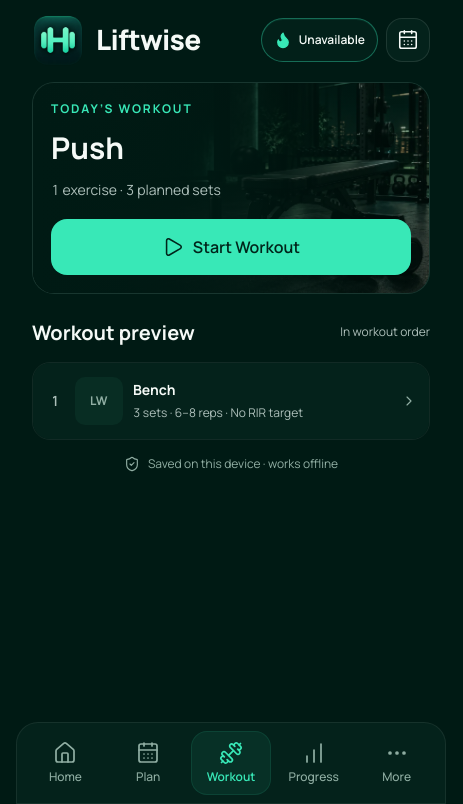
Test case: blocks double taps before rendering pending state and reports a recoverable storage error
Expected: the navigation bar named "primary" is shown, [16, 722, 446, 803]
Click the button "Start Workout" at coordinates (231, 247), box [51, 219, 411, 275]
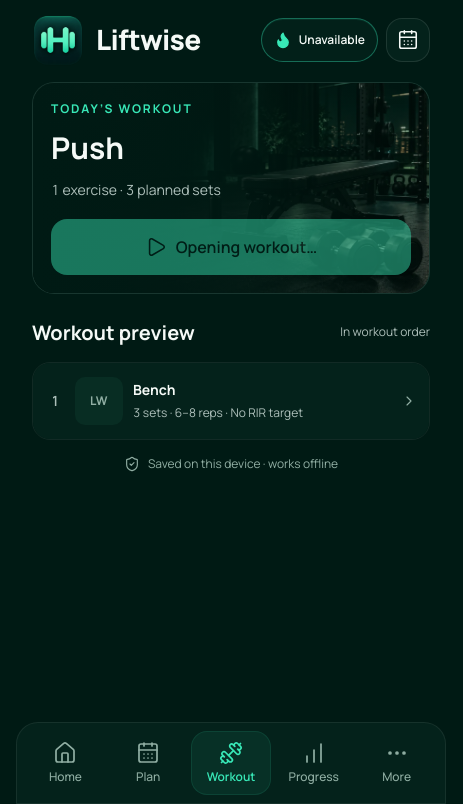
Click the button named "Start Workout" at coordinates (231, 247), box [51, 219, 411, 275]
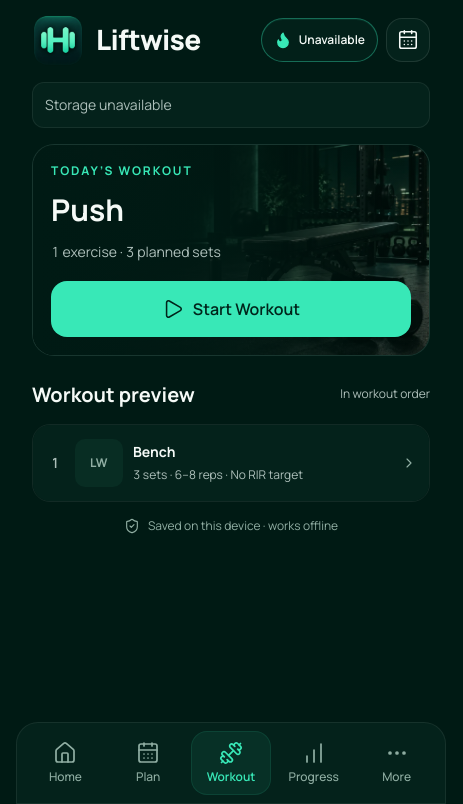
Expected: the message reads "Storage unavailable", [45, 95, 172, 114]
Expected: the button "Start Workout" is enabled, [51, 281, 411, 337]
